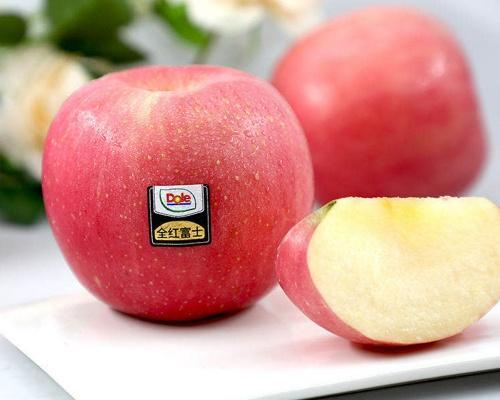apple: (43, 67, 322, 318), (269, 6, 490, 206), (277, 197, 500, 347)
